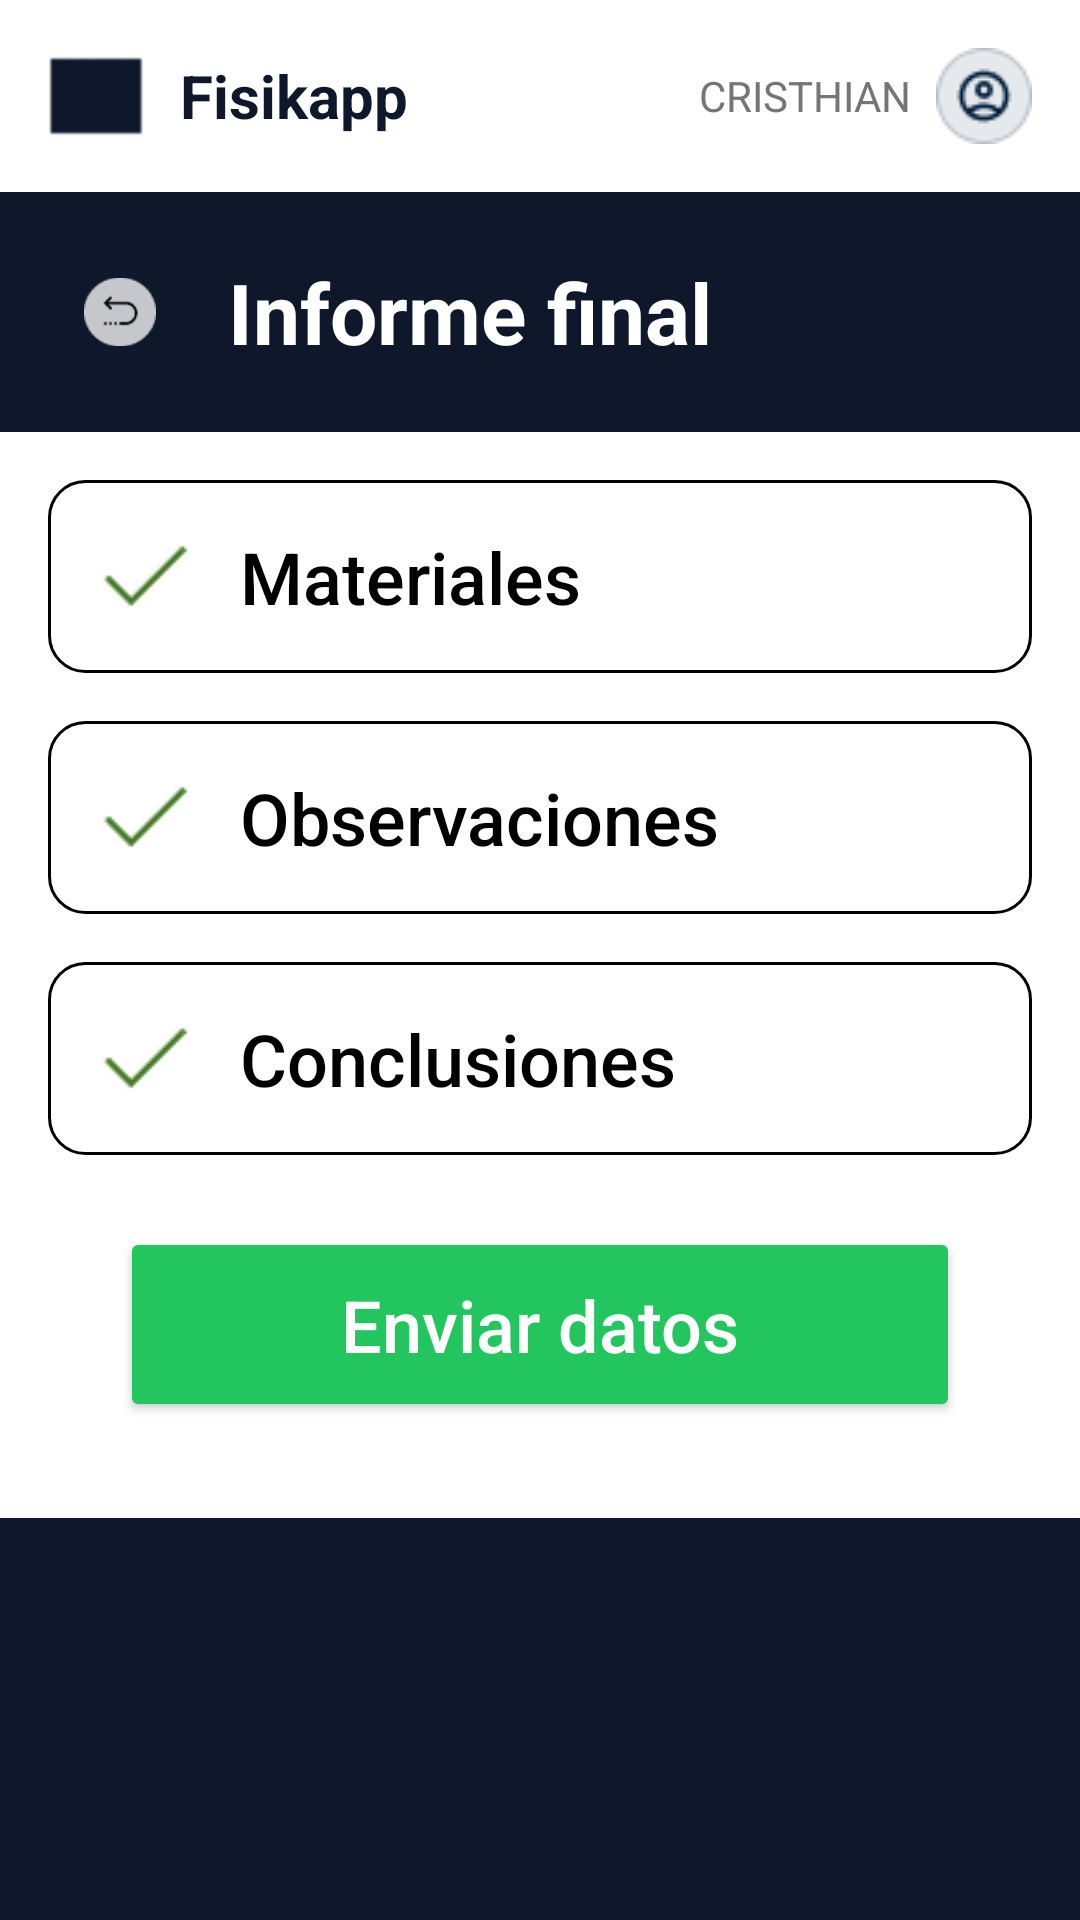

Icons on this 1080×1920 Android screen, each with the point to tap as (x=x, y=y):
chulo: (x=146, y=576), (x=146, y=817), (x=146, y=1058)
iconoretroceder: (x=120, y=312)
iconousuario: (x=984, y=96)
